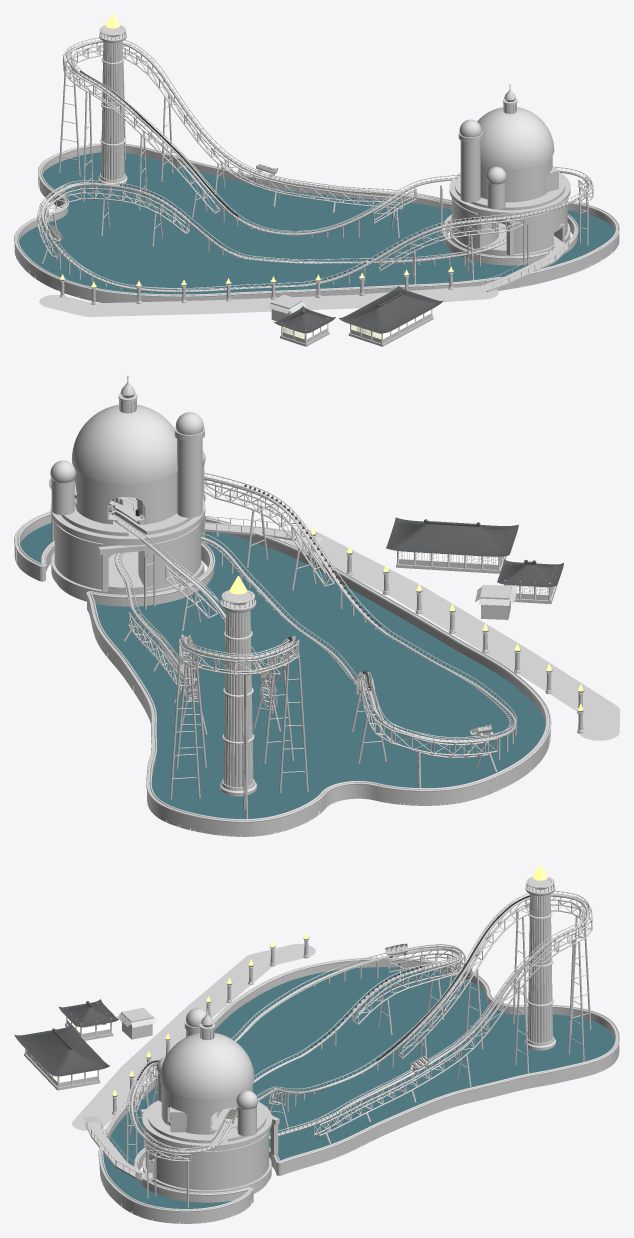
The picture shows the model from 3 angles, top to bottom: view 1: azimuth 30°, elevation 25°; view 2: azimuth 150°, elevation 25°; view 3: azimuth 270°, elevation 25°; orthographic projection. The views are drawn at different scales.
Parts seen in each view (by area): view 1: MI33_Static_ATL_Water, MI33_Static_ATL_StoneSand, MI33_Static_ATL_TrussRust, MI33_Static_ATL_Paving, MI33_Static_ATL_RailSteel, MI33_Static_ATL_SpineTeal, MI33_Static_ATL_Cream, MI33_Static_ATL_DomePurple, MI33_Static_ATL_GiwaTile, MI33_Static_ATL_Pink, MI33_Static_ATL_Gold, MI33_Static_ATL_DomeTeal (+5 smaller); view 2: MI33_Static_ATL_Water, MI33_Static_ATL_StoneSand, MI33_Static_ATL_TrussRust, MI33_Static_ATL_Cream, MI33_Static_ATL_Paving, MI33_Static_ATL_DomePurple, MI33_Static_ATL_GiwaTile, MI33_Static_ATL_RailSteel, MI33_Static_ATL_SpineTeal, MI33_Static_ATL_Pink, MI33_Static_ATL_Gold, MI33_Static_ATL_DomeTeal (+5 smaller); view 3: MI33_Static_ATL_Water, MI33_Static_ATL_StoneSand, MI33_Static_ATL_TrussRust, MI33_Static_ATL_Cream, MI33_Static_ATL_Paving, MI33_Static_ATL_DomePurple, MI33_Static_ATL_RailSteel, MI33_Static_ATL_SpineTeal, MI33_Static_ATL_GiwaTile, MI33_Static_ATL_Gold, MI33_Static_ATL_DomeTeal, MI33_Static_ATL_HanokPlaster (+2 smaller).
Boxes of the visible parts, x1,y1,x2,y2 form: MI33_Static_ATL_Water: (18, 152, 615, 294); MI33_Static_ATL_StoneSand: (14, 32, 619, 304); MI33_Static_ATL_TrussRust: (37, 40, 593, 290); MI33_Static_ATL_Paving: (39, 242, 569, 316); MI33_Static_ATL_RailSteel: (41, 37, 592, 291); MI33_Static_ATL_SpineTeal: (41, 40, 590, 291); MI33_Static_ATL_Cream: (271, 131, 570, 321); MI33_Static_ATL_DomePurple: (477, 107, 554, 169); MI33_Static_ATL_GiwaTile: (274, 286, 443, 333); MI33_Static_ATL_Pink: (460, 140, 480, 202); MI33_Static_ATL_Gold: (99, 25, 517, 146); MI33_Static_ATL_DomeTeal: (459, 119, 506, 184); MI33_Static_ATL_Water: (20, 522, 545, 818); MI33_Static_ATL_StoneSand: (14, 499, 584, 836); MI33_Static_ATL_TrussRust: (50, 477, 517, 818); MI33_Static_ATL_Cream: (50, 427, 510, 619); MI33_Static_ATL_Paving: (205, 522, 619, 740); MI33_Static_ATL_DomePurple: (71, 404, 177, 483); MI33_Static_ATL_GiwaTile: (386, 517, 563, 587); MI33_Static_ATL_RailSteel: (49, 472, 516, 741); MI33_Static_ATL_SpineTeal: (51, 477, 516, 743); MI33_Static_ATL_Pink: (177, 438, 202, 517); MI33_Static_ATL_Gold: (118, 375, 255, 744); MI33_Static_ATL_DomeTeal: (50, 412, 205, 482); MI33_Static_ATL_Water: (103, 967, 614, 1208); MI33_Static_ATL_StoneSand: (98, 885, 619, 1223); MI33_Static_ATL_TrussRust: (86, 893, 592, 1207); MI33_Static_ATL_Cream: (122, 1020, 279, 1192); MI33_Static_ATL_Paving: (72, 944, 315, 1180); MI33_Static_ATL_DomePurple: (160, 1033, 254, 1099); MI33_Static_ATL_RailSteel: (128, 890, 590, 1152); MI33_Static_ATL_SpineTeal: (130, 894, 588, 1153); MI33_Static_ATL_GiwaTile: (14, 999, 118, 1076); MI33_Static_ATL_Gold: (199, 877, 554, 1040); MI33_Static_ATL_DomeTeal: (156, 1008, 257, 1109); MI33_Static_ATL_HanokPlaster: (26, 1019, 110, 1087).
Bounding box in the file's own units: 119 × 38.79 × 113.
